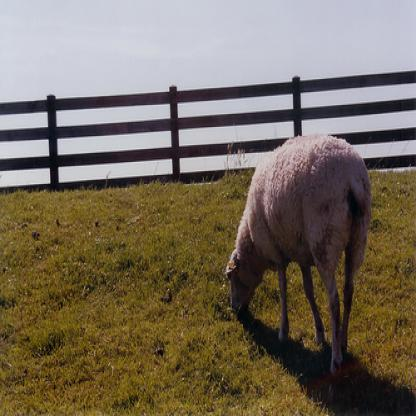sheep: (224, 131, 372, 374)
